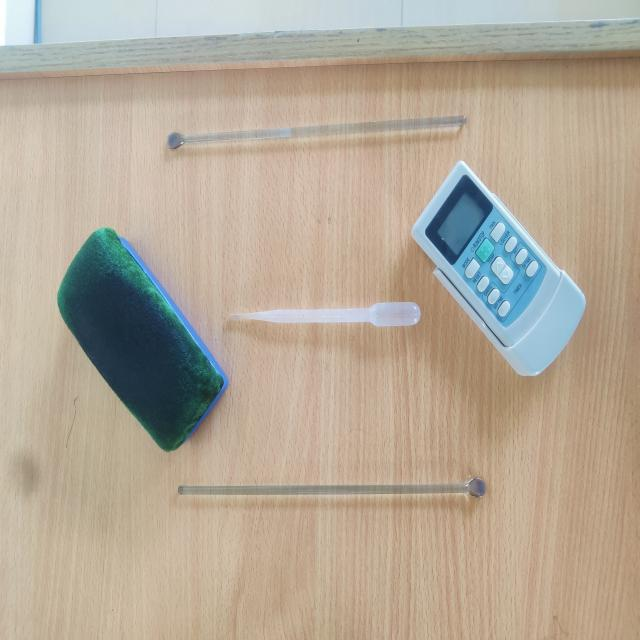Glass_Rod: (154, 71, 499, 188), (168, 438, 511, 543)
Pipette: (218, 265, 447, 374)
